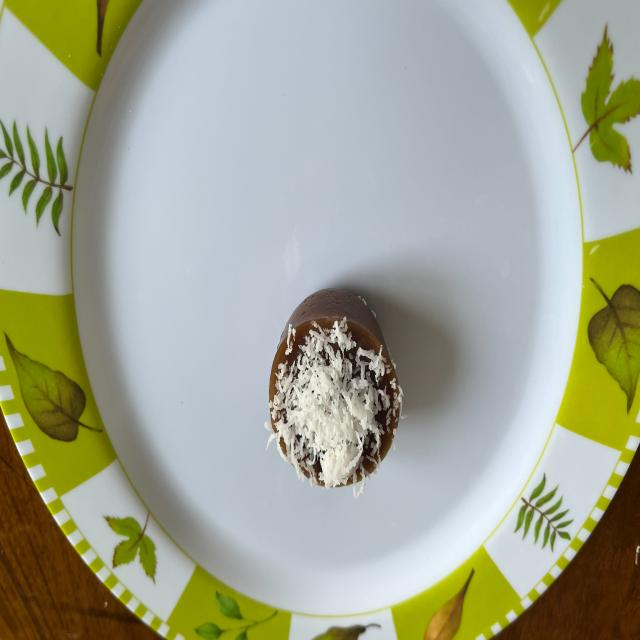Kuih lompang: (266, 289, 402, 496)
